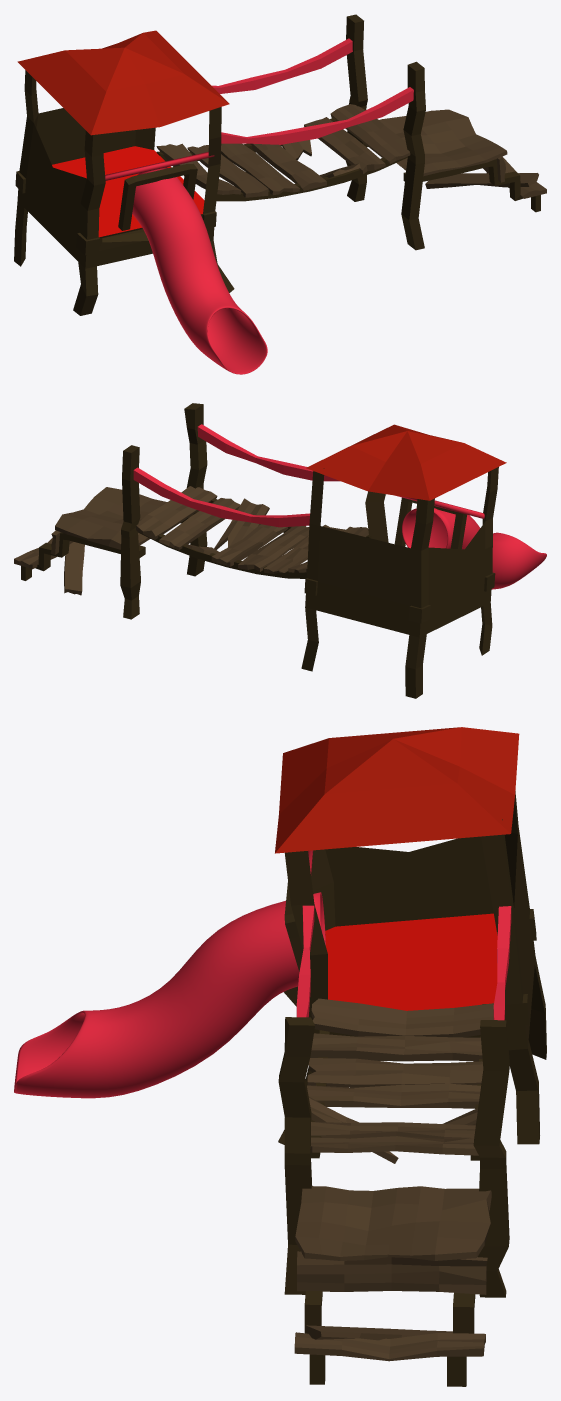
File: Toboggan.fbx
3 renders of one model, top to bottom at view 1: azimuth 30°, elevation 25°; view 2: azimuth 150°, elevation 25°; view 3: azimuth 270°, elevation 25°, orthographic. The views are drawn at different scales.
Parts seen in each view (by area): view 1: Toboggan; view 2: Toboggan; view 3: Toboggan.
Part boxes in pixels (x1=…): Toboggan: x1=14, y1=14, x2=546, y2=374; Toboggan: x1=14, y1=403, x2=546, y2=698; Toboggan: x1=14, y1=727, x2=546, y2=1386.
Bounding box in the file's own units: 1454 × 716 × 958.
